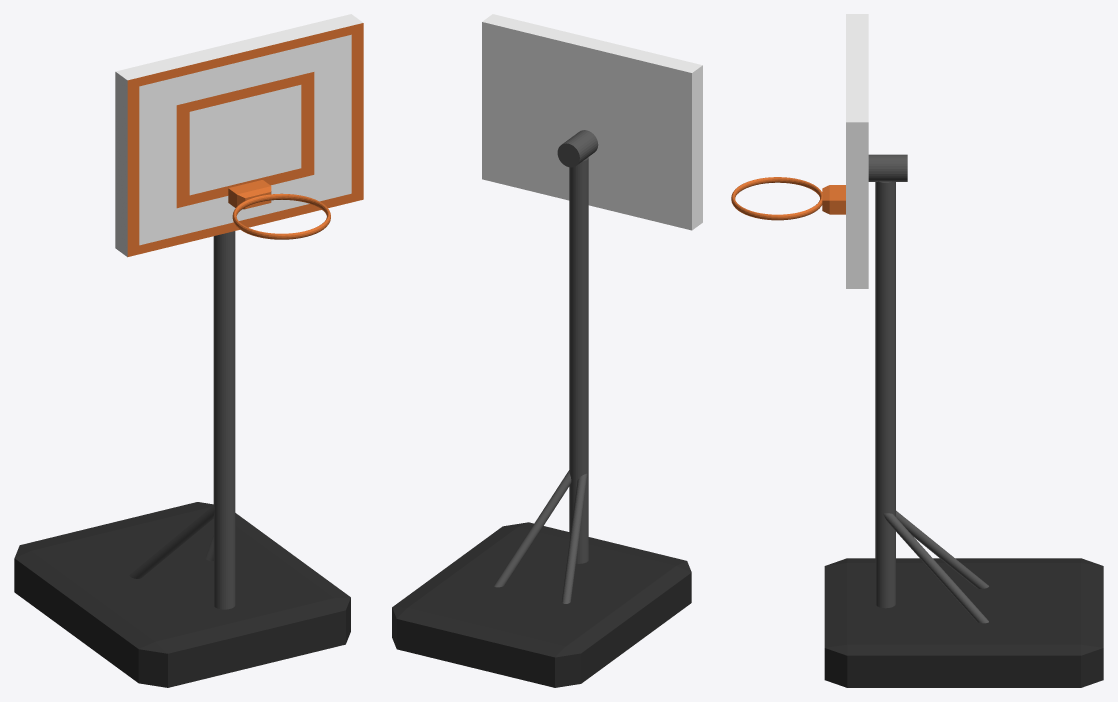
Rendered from basketballhoop.fbx.
3 renders of one model, left to right at view 1: azimuth 30°, elevation 25°; view 2: azimuth 150°, elevation 25°; view 3: azimuth 270°, elevation 25°, orthographic. The views are drawn at different scales.
Visible parts, largest first — view 1: Cube.001, Cube, Cylinder, Torus, Cylinder.001, Cube.002; view 2: Cube.001, Cube, Cylinder, Cylinder.002, Cylinder.001, Cylinder.003; view 3: Cube, Cylinder, Cube.001, Cylinder.002, Torus, Cylinder.003, Cylinder.001, Cube.002.
Boxes of the visible parts, bbox=[...] form: Cube.001: bbox=[115, 14, 363, 257]; Cube: bbox=[14, 502, 350, 687]; Cylinder: bbox=[213, 231, 235, 609]; Torus: bbox=[232, 193, 330, 239]; Cylinder.001: bbox=[129, 505, 214, 578]; Cube.002: bbox=[228, 180, 271, 209]; Cube.001: bbox=[482, 14, 702, 230]; Cube: bbox=[392, 522, 691, 687]; Cylinder: bbox=[569, 157, 588, 563]; Cylinder.002: bbox=[494, 470, 571, 587]; Cylinder.001: bbox=[561, 473, 587, 603]; Cylinder.003: bbox=[557, 130, 598, 167]; Cube: bbox=[824, 558, 1103, 687]; Cylinder: bbox=[875, 181, 895, 608]; Cube.001: bbox=[846, 14, 868, 288]; Cylinder.002: bbox=[883, 513, 988, 623]; Torus: bbox=[731, 177, 822, 220]; Cylinder.003: bbox=[868, 154, 907, 181]; Cylinder.001: bbox=[896, 510, 988, 588]; Cube.002: bbox=[822, 185, 845, 214].
Bounding box in the file's own units: 375 × 926 × 545.
